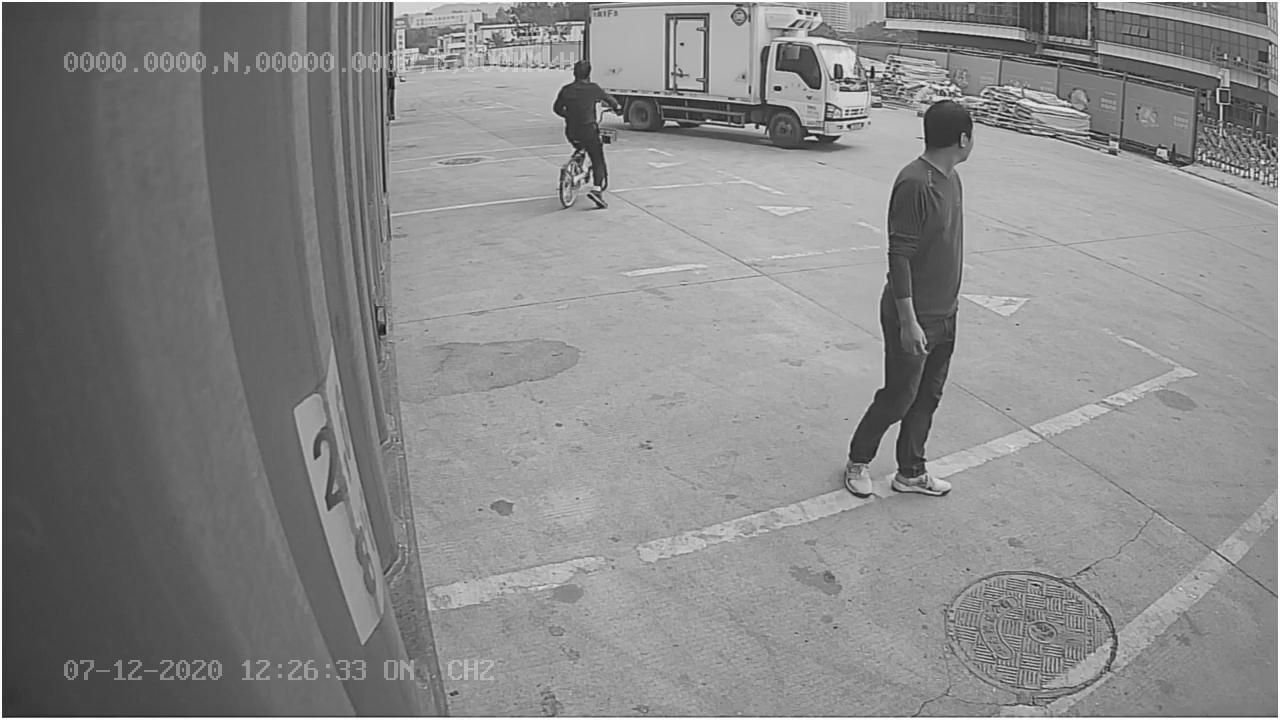person: (838, 93, 983, 499)
